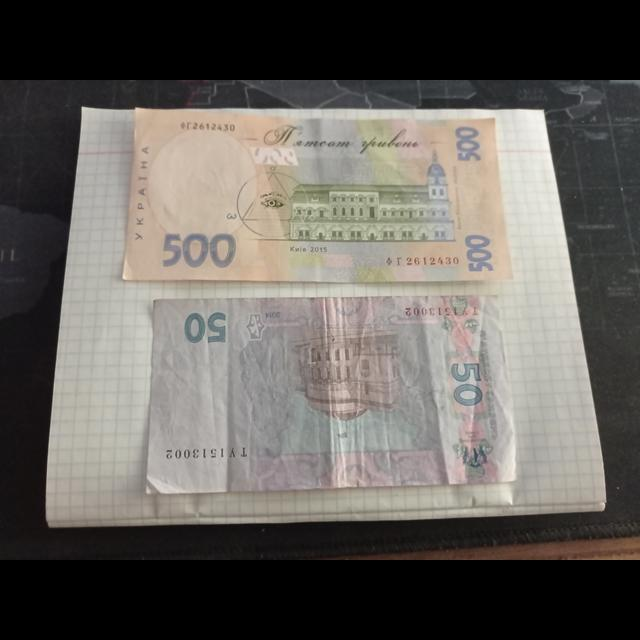500uah: (120, 116, 514, 281)
50uah: (147, 295, 516, 493)
